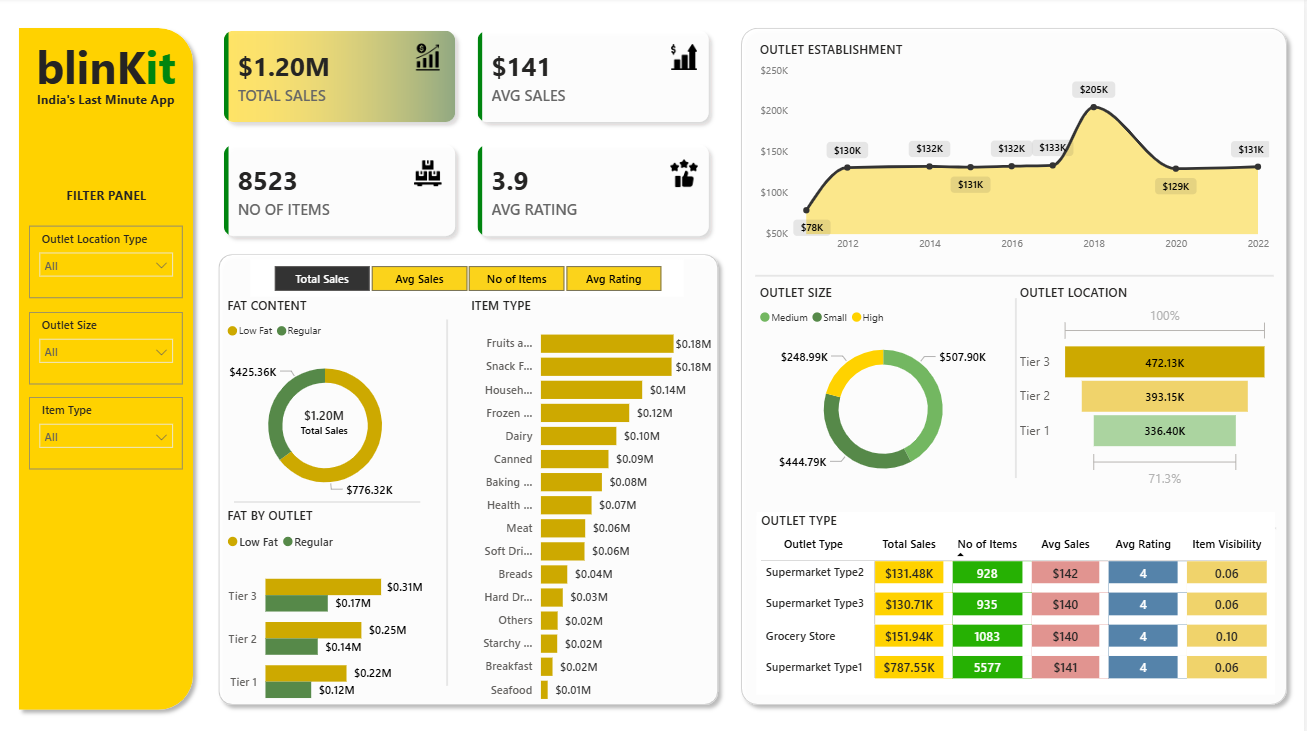

This screenshot's page, from the dashboard's own definition file:
{"tool":"powerbi","page":{"name":"Page 1","canvas":[1400,800],"ordinal":0},"visuals":[{"type":"shape","box":[12.1,24.1,205.1,749.3],"z":0},{"type":"textbox","box":[32.2,36.2,164.9,73.7],"z":1000},{"type":"textbox","box":[32.2,95.2,164.9,29.5],"z":2000},{"type":"cardVisual","fields":{"Data":["BlinkIT Grocery Data.Total Sales","BlinkIT Grocery Data.Avg Sales","BlinkIT Grocery Data.No of Items","BlinkIT Grocery Data.Avg Rating"]},"box":[217.2,12.1,569.7,269.4],"z":3000},{"type":"image","box":[445,49.6,29.5,29.5],"z":4000},{"type":"image","box":[719.8,49.6,29.5,29.5],"z":5000},{"type":"image","box":[445,174.3,29.5,29.5],"z":6000},{"type":"image","box":[719.8,174.3,29.5,29.5],"z":7000},{"type":"shape","box":[226.5,266.8,553.6,501.3],"z":8000},{"type":"donutChart","title":"FAT CONTENT","fields":{"Y":["BlinkIT Grocery Data.Total Sales"],"Category":["BlinkIT Grocery Data.Item Fat Content"]},"box":[239.9,321.7,219.8,230.6],"z":9000},{"type":"slicer","fields":{"Values":["Metrics.Metrics"]},"box":[269.4,281.5,465.1,40.2],"z":10000},{"type":"cardVisual","fields":{"Data":["BlinkIT Grocery Data.Total Sales"]},"box":[292.2,419.6,113.9,71],"z":11000},{"type":"clusteredBarChart","title":"FAT BY OUTLET","fields":{"Y":["BlinkIT Grocery Data.Total Sales"],"Category":["BlinkIT Grocery Data.Outlet Location Type"],"Series":["BlinkIT Grocery Data.Item Fat Content"]},"box":[239.9,546.9,219.8,230.6],"z":12000},{"type":"shape","box":[252,528.2,199.7,26.8],"z":13000},{"type":"shape","box":[459.8,345.8,41.6,392.8],"z":14000},{"type":"barChart","title":"ITEM TYPE","fields":{"Y":["BlinkIT Grocery Data.Total Sales"],"Category":["BlinkIT Grocery Data.Item Type"]},"box":[501.3,321.7,268.1,446.4],"z":15000},{"type":"shape","box":[786.9,24.1,603.2,744],"z":16000},{"type":"lineChart","title":"OUTLET ESTABLISHMENT","fields":{"Category":["BlinkIT Grocery Data.Outlet Establishment Year"],"Y":["BlinkIT Grocery Data.Total Sales"]},"box":[811,46.9,556.3,234.6],"z":17000},{"type":"shape","box":[811,285.5,556.3,26.8],"z":18000},{"type":"donutChart","title":"OUTLET SIZE","fields":{"Y":["BlinkIT Grocery Data.Total Sales"],"Category":["BlinkIT Grocery Data.Outlet Size"]},"box":[811,307,274.8,225.2],"z":19000},{"type":"shape","box":[1069.7,323.1,41.6,193],"z":20000},{"type":"funnel","title":"OUTLET LOCATION","fields":{"Y":["Sum(BlinkIT Grocery Data.Sales)"],"Category":["BlinkIT Grocery Data.Outlet Location Type"]},"box":[1089.8,307,277.5,225.2],"z":21000},{"type":"shape","box":[813.7,556.3,556.3,26.8],"z":22000},{"type":"pivotTable","title":"OUTLET TYPE","fields":{"Rows":["BlinkIT Grocery Data.Outlet Type"],"Values":["BlinkIT Grocery Data.Total Sales","BlinkIT Grocery Data.No of Items","BlinkIT Grocery Data.Avg Sales","BlinkIT Grocery Data.Avg Rating","Avg(BlinkIT Grocery Data.Item Visibility)"]},"box":[812.3,552.3,556.3,195.7],"z":23000},{"type":"slicer","fields":{"Values":["BlinkIT Grocery Data.Outlet Location Type"]},"box":[32.2,245.3,164.9,77.7],"z":24000},{"type":"slicer","fields":{"Values":["BlinkIT Grocery Data.Outlet Size"]},"box":[32.2,337.8,164.9,77.7],"z":25000},{"type":"slicer","fields":{"Values":["BlinkIT Grocery Data.Item Type"]},"box":[32.2,429,164.9,77.7],"z":26000},{"type":"textbox","box":[52.3,203.8,126,25.5],"z":27000}]}

Visuals, with their boxes in screenshot pixels (x1, y1, x2, y2), scaled from the page's 1400x800 canvas onto the 1307x731 screenshot:
shape: region(11, 22, 203, 707)
textbox: region(30, 33, 184, 100)
textbox: region(30, 87, 184, 114)
cardVisual - BlinkIT Grocery Data.Total Sales x BlinkIT Grocery Data.Avg Sales: region(203, 11, 735, 257)
image: region(415, 45, 443, 72)
image: region(672, 45, 700, 72)
image: region(415, 159, 443, 186)
image: region(672, 159, 700, 186)
shape: region(211, 244, 728, 702)
"FAT CONTENT" donutChart: region(224, 294, 429, 505)
slicer - Metrics.Metrics: region(252, 257, 686, 294)
cardVisual - BlinkIT Grocery Data.Total Sales: region(273, 383, 379, 448)
"FAT BY OUTLET" clusteredBarChart: region(224, 500, 429, 710)
shape: region(235, 483, 422, 507)
shape: region(429, 316, 468, 675)
"ITEM TYPE" barChart: region(468, 294, 718, 702)
shape: region(735, 22, 1298, 702)
"OUTLET ESTABLISHMENT" lineChart: region(757, 43, 1276, 257)
shape: region(757, 261, 1276, 285)
"OUTLET SIZE" donutChart: region(757, 281, 1014, 486)
shape: region(999, 295, 1037, 472)
"OUTLET LOCATION" funnel: region(1017, 281, 1276, 486)
shape: region(760, 508, 1279, 533)
"OUTLET TYPE" pivotTable: region(758, 505, 1278, 683)
slicer - BlinkIT Grocery Data.Outlet Location Type: region(30, 224, 184, 295)
slicer - BlinkIT Grocery Data.Outlet Size: region(30, 309, 184, 380)
slicer - BlinkIT Grocery Data.Item Type: region(30, 392, 184, 463)
textbox: region(49, 186, 166, 210)
